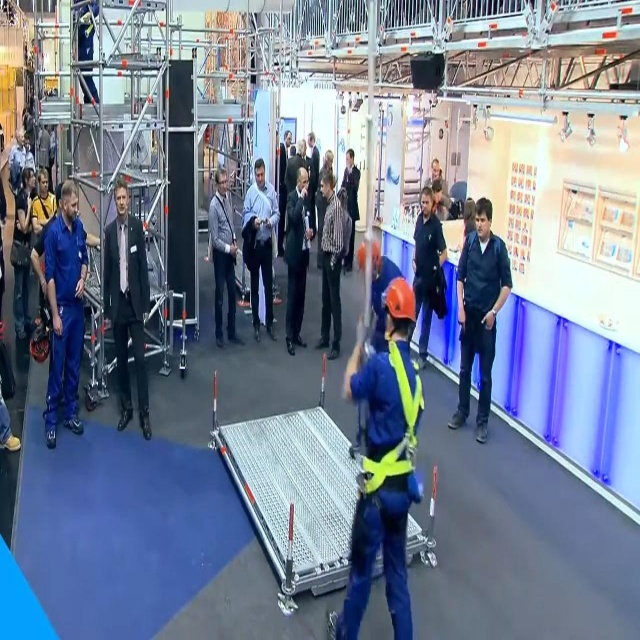Arnes_seguridad: (356, 327, 429, 505)
